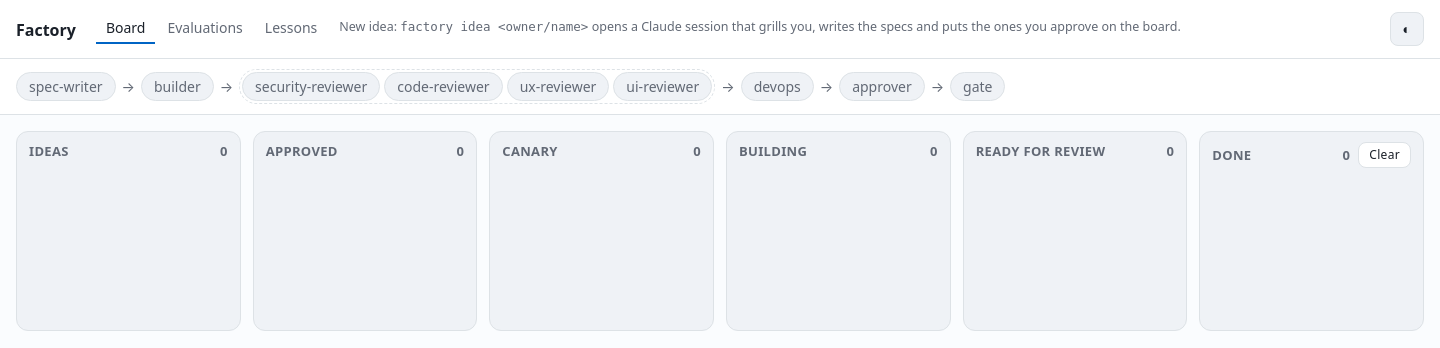
it: the Evaluations tab › with none says how a job is evaluated, and facts without logs say so
What coordinates should you click on to do the following:
click the button "Evaluations"
I would click on:
 (205, 29)
Its box is [157,14,253,44].
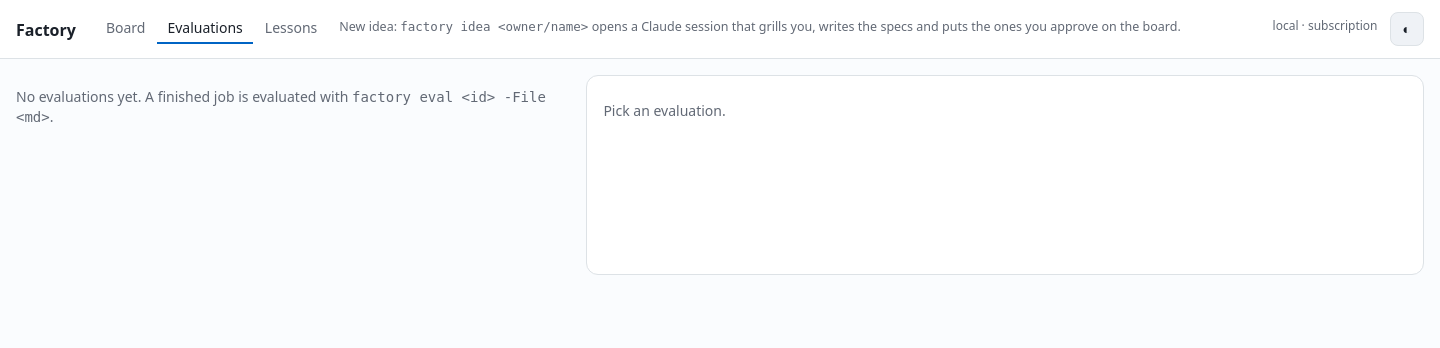
Result: the element with id "evals" shows "No evaluations yet" at [16,87,352,106]
